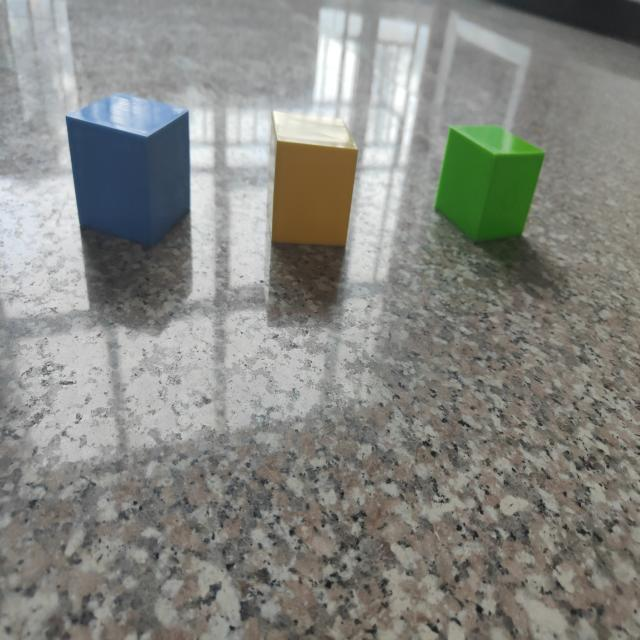blue: (65, 94, 192, 250)
green: (434, 126, 545, 245)
yellow: (270, 113, 358, 249)
